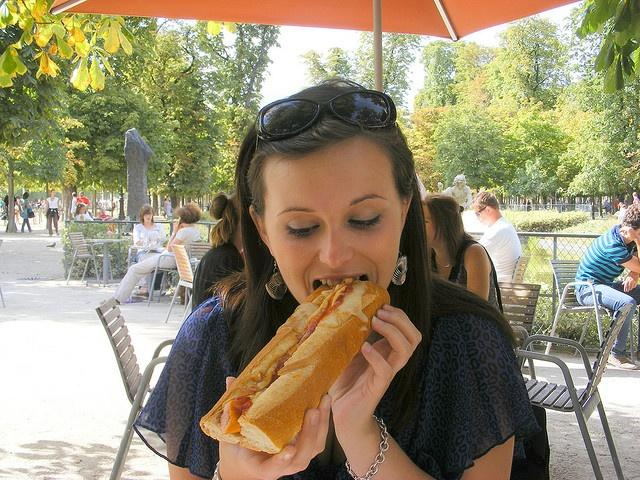Kursi: (514, 302, 634, 479)
